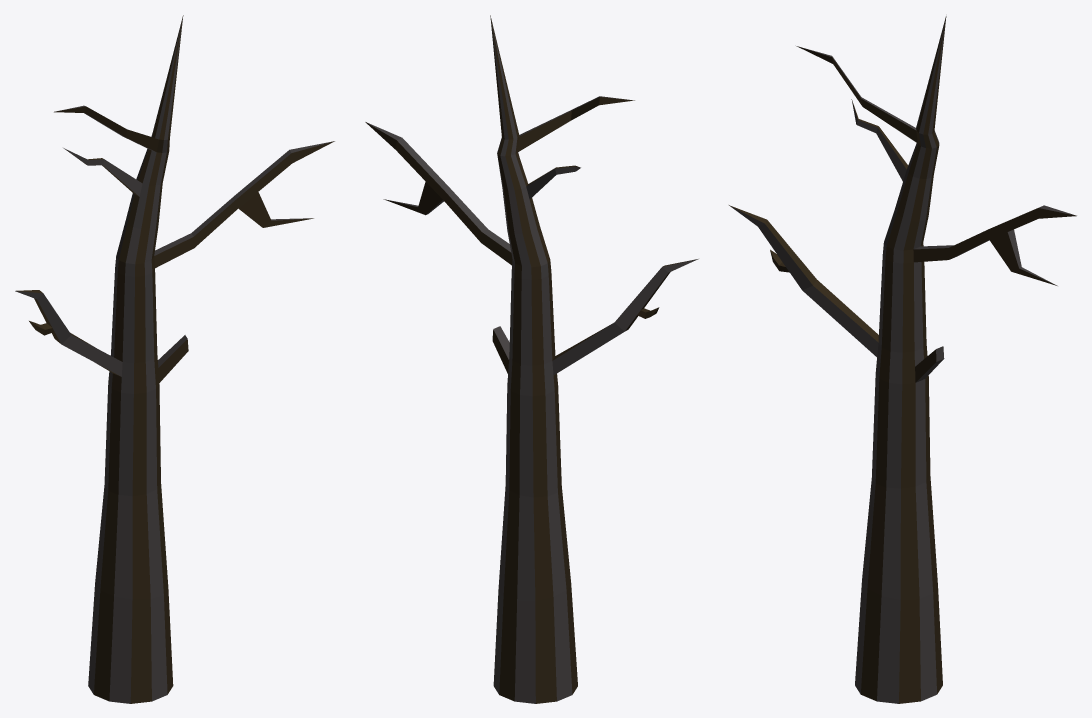
File: tree3.glb
The picture shows the model from 3 angles, left to right: view 1: azimuth 30°, elevation 25°; view 2: azimuth 150°, elevation 25°; view 3: azimuth 330°, elevation 25°; orthographic projection. The views are drawn at different scales.
Parts seen in each view (by area): view 1: Tree; view 2: Tree; view 3: Tree.
Boxes of the visible parts, x1,y1,x2,y2 form: Tree: (15,15,334,703); Tree: (365,15,698,703); Tree: (729,16,1076,703).
Bounding box in the file's own units: 2.34 × 4.5 × 0.5602.
